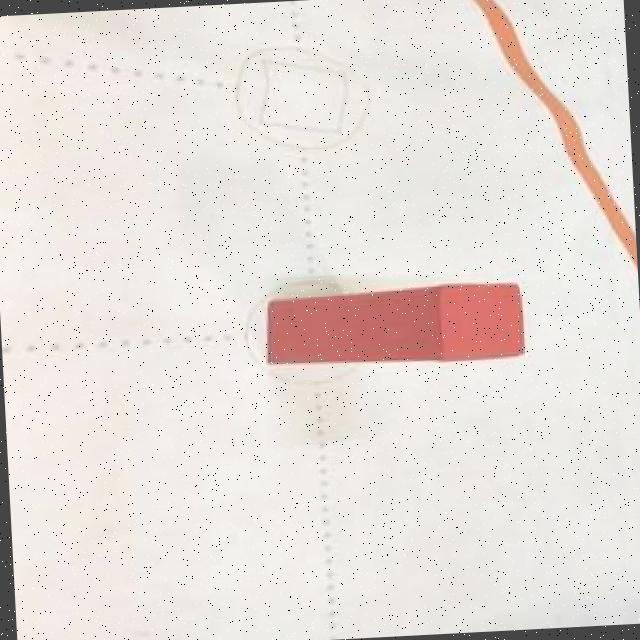redbox: (262, 278, 528, 372)
